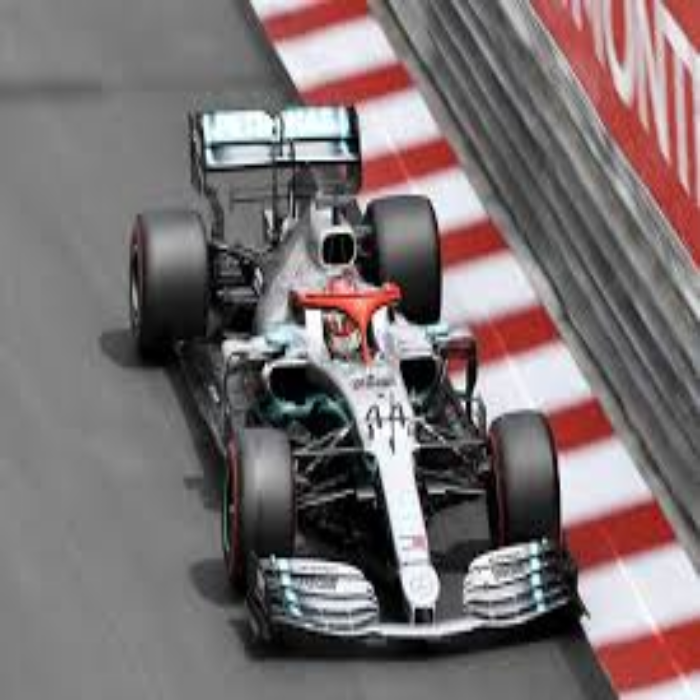f1_car: (121, 96, 603, 672)
